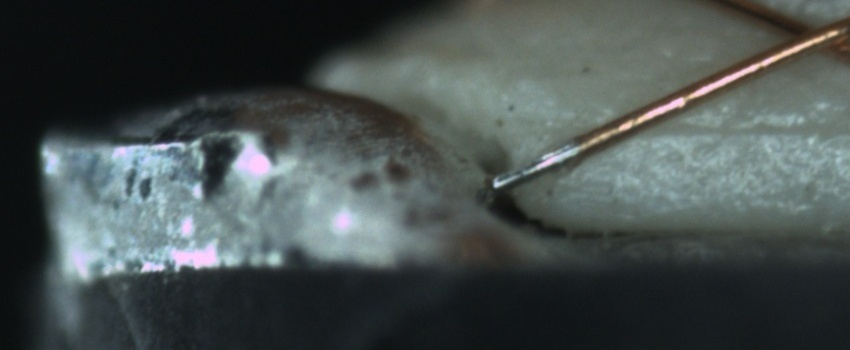CL: (756, 4, 847, 66)
DL: (559, 96, 850, 159)
TS: (484, 140, 580, 192)
